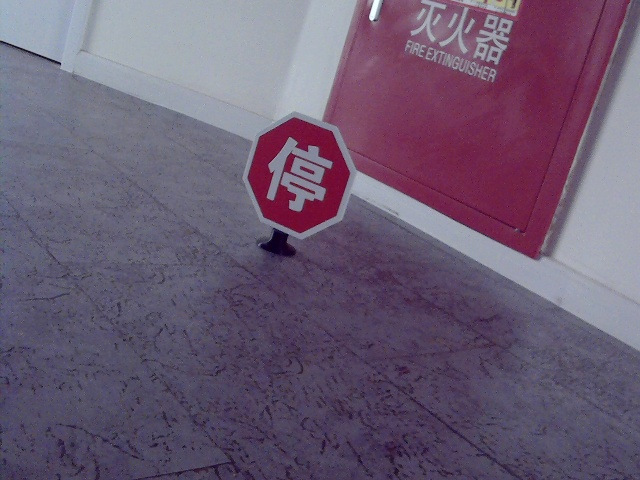stop: (265, 134, 330, 208)
